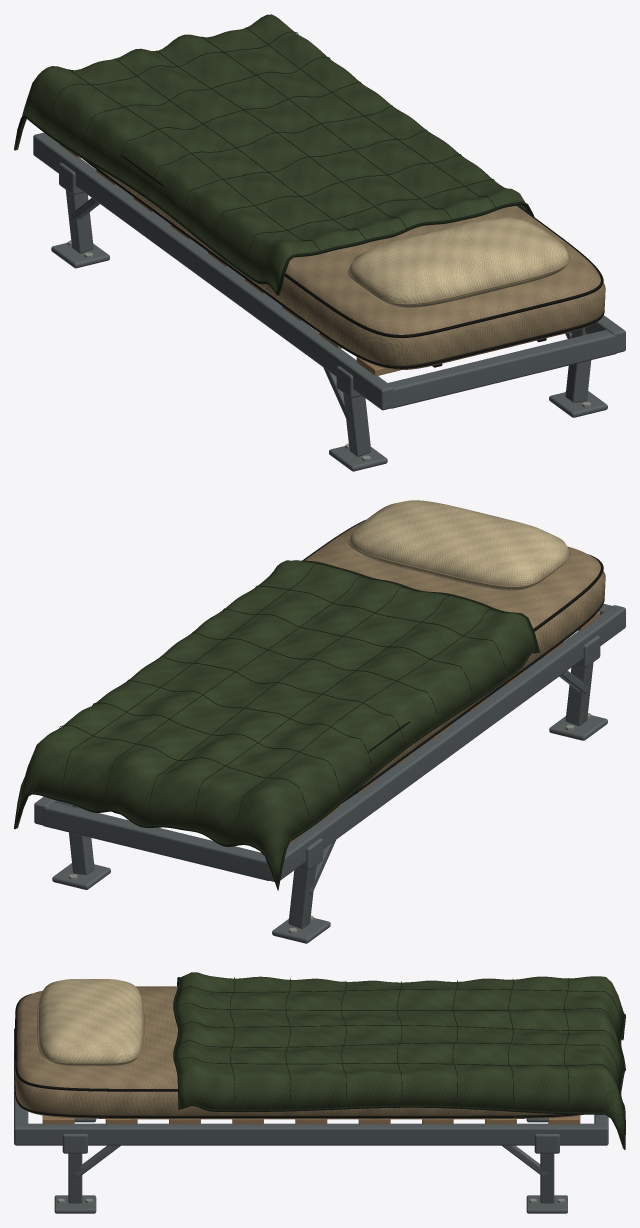
File: rv_bunk.glb
3 views of the same model, one above another, from view 1: azimuth 30°, elevation 25°; view 2: azimuth 150°, elevation 25°; view 3: azimuth 270°, elevation 25° (orthographic). The views are drawn at different scales.
Visible parts, largest first — view 1: Faded olive ripstop, Graphite powder coat, Oatmeal mattress ticking, Washed canvas pillow, Dark olive binding, Charcoal webbing and mattress welt, Birch slats; view 2: Faded olive ripstop, Graphite powder coat, Washed canvas pillow, Oatmeal mattress ticking, Dark olive binding, Charcoal webbing and mattress welt; view 3: Faded olive ripstop, Graphite powder coat, Oatmeal mattress ticking, Washed canvas pillow, Dark olive binding, Charcoal webbing and mattress welt, Birch slats.
Boxes of the visible parts, x1,y1,x2,y2 form: Faded olive ripstop: (16,14,529,294); Graphite powder coat: (33,132,625,471); Oatmeal mattress ticking: (98,168,605,369); Washed canvas pillow: (348,217,570,307); Dark olive binding: (14,27,534,295); Charcoal webbing and mattress welt: (82,155,604,368); Birch slats: (59,144,599,375); Faded olive ripstop: (17,560,537,887); Graphite powder coat: (34,603,625,943); Washed canvas pillow: (349,500,570,590); Oatmeal mattress ticking: (304,522,605,789); Dark olive binding: (14,560,539,890); Charcoal webbing and mattress welt: (113,520,604,814); Faded olive ripstop: (175,972,624,1148); Graphite powder coat: (14,1028,608,1213); Oatmeal mattress ticking: (15,986,583,1119); Washed canvas pillow: (38,979,143,1066); Dark olive binding: (173,977,625,1149); Charcoal webbing and mattress welt: (14,993,577,1117); Birch slats: (42,1115,580,1124).
Size of the model in its own units: 0.8704 by 0.574 by 2.03.
8 materials, 5 textured.
